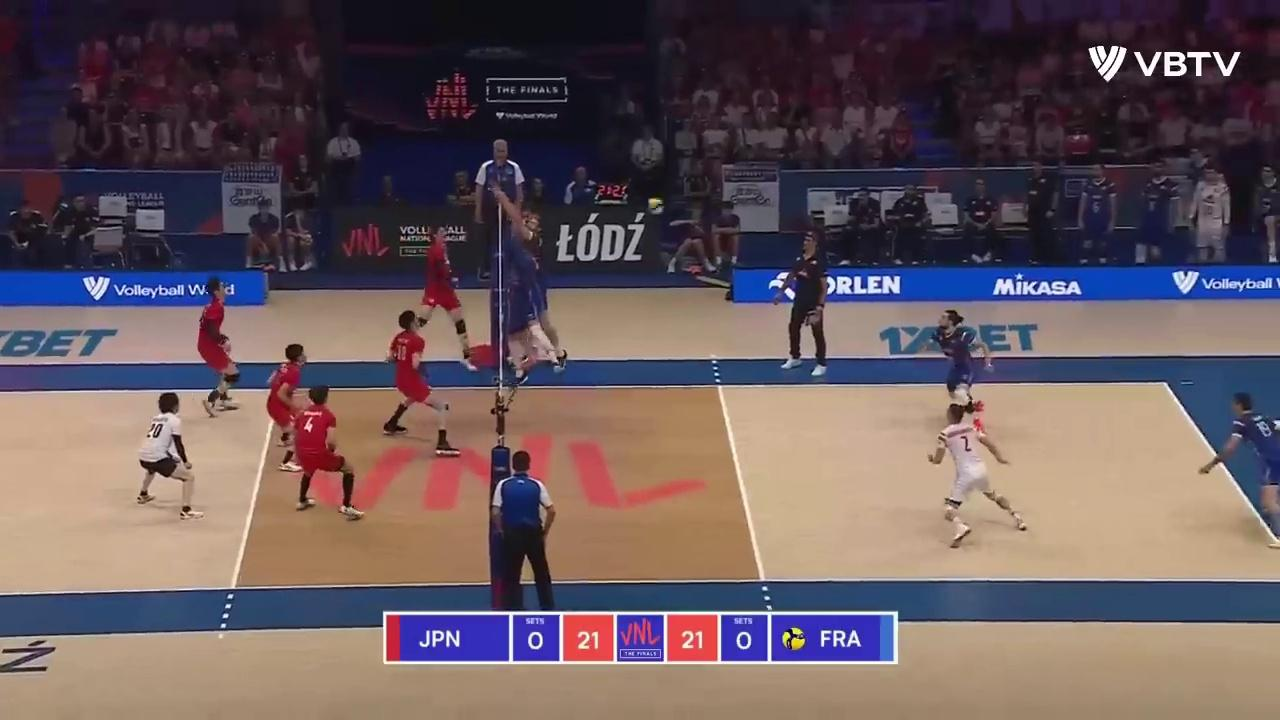ball: (648, 199, 663, 213)
